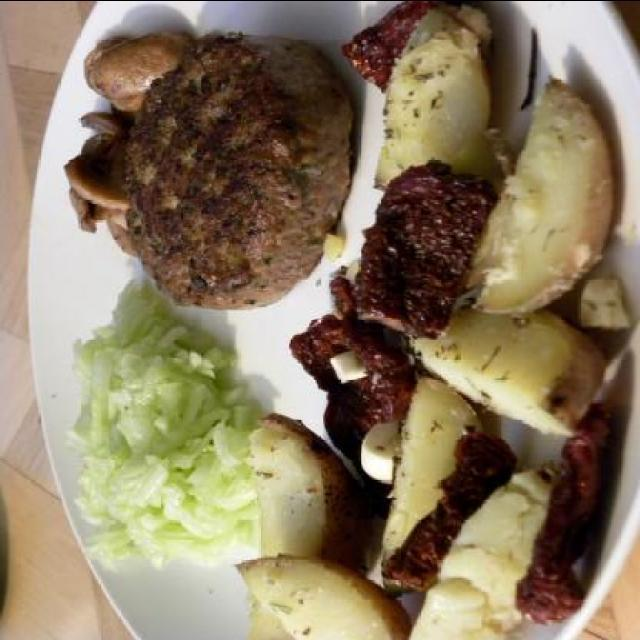Potato: (380, 9, 502, 202)
